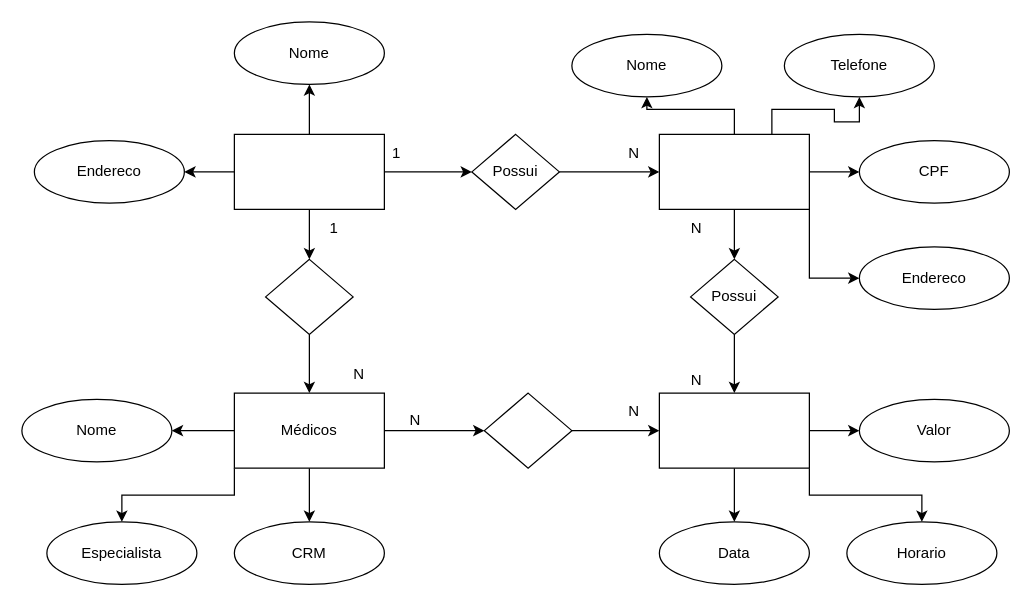
Image size: 1031x606. Some labels were removed from this diagram. The shapes that lost their labels are listed below. From the top down, each one's centre as x and y in pixels, then its label:
the point at 308,171: Clínica
the point at 733,171: Pacientes
the point at 308,296: Contém
the point at 527,430: Tem
the point at 733,430: Consultas
